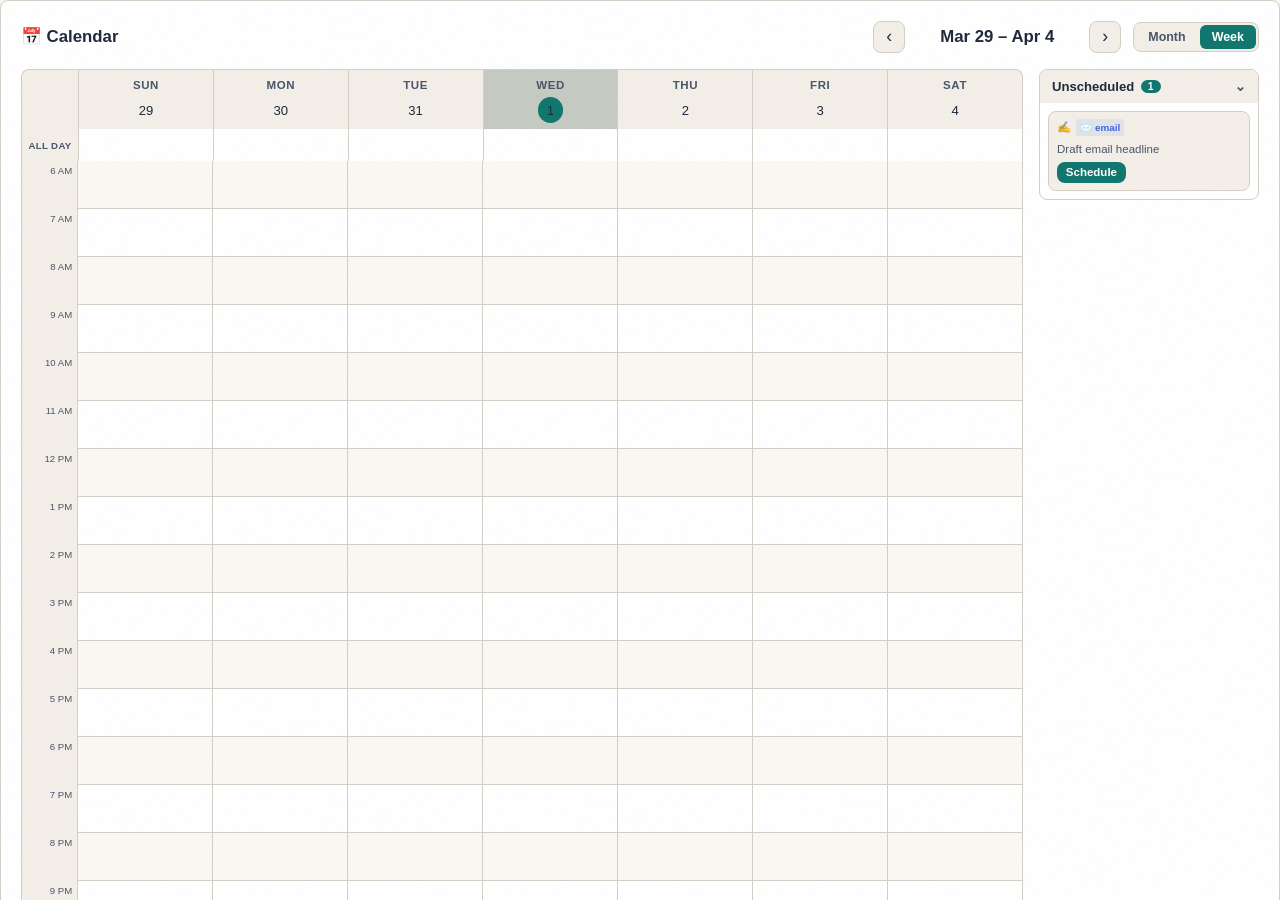
Scenario: CalendarView – unscheduled sidebar › Cancel button hides DatePicker and restores Schedule button
Click the button "Schedule".
click(1091, 172)  # box 1057,162 -> 1126,183
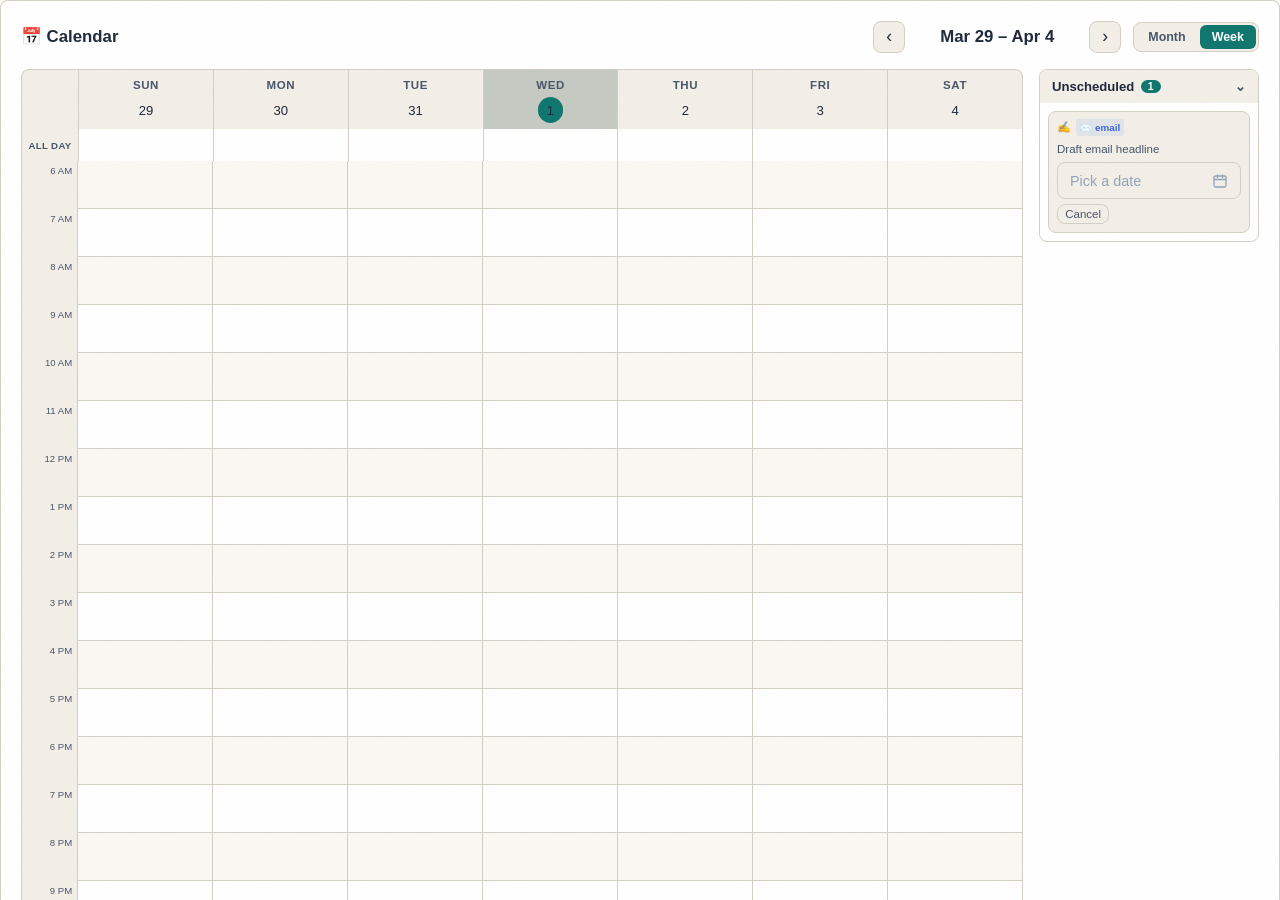
Click the button "Cancel".
click(1083, 214)  # box 1057,204 -> 1109,224
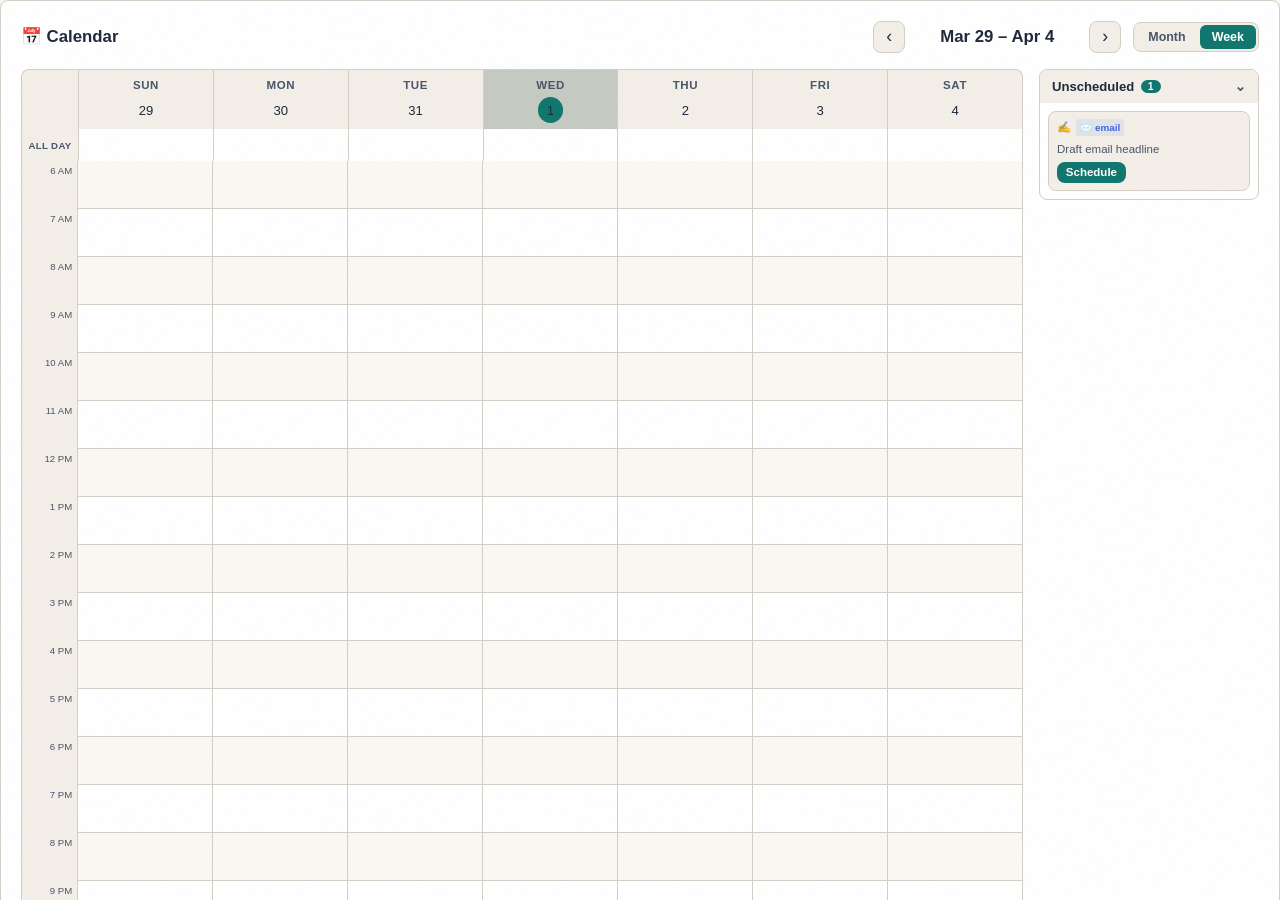
expect the button "Schedule" is shown: met, box 1057,162 -> 1126,183
expect the button "Cancel" is gone: met
